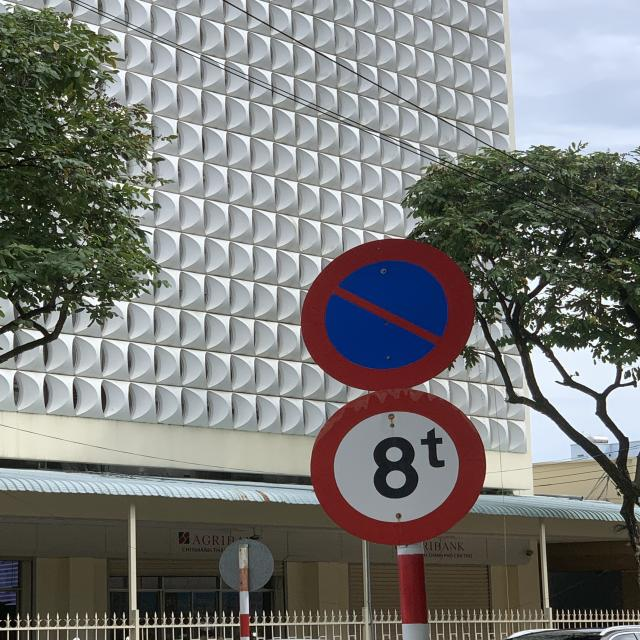Cam_Dau_Xe: (303, 242, 477, 391)
